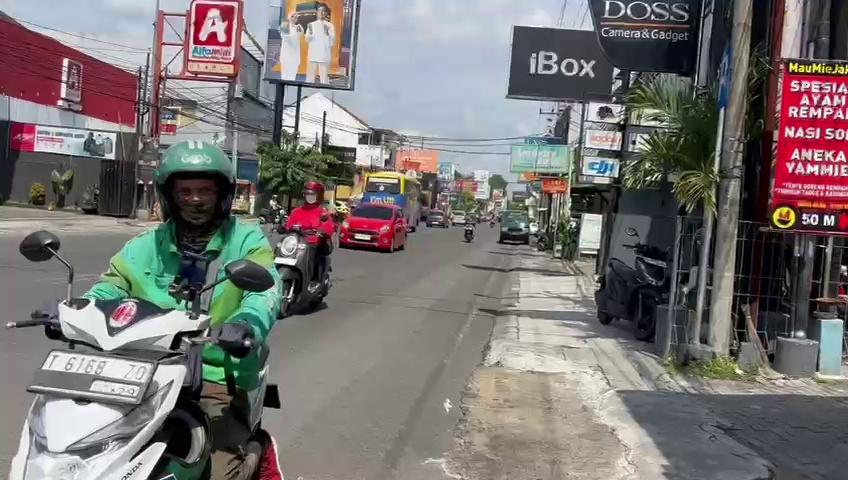helm: (143, 127, 242, 246)
